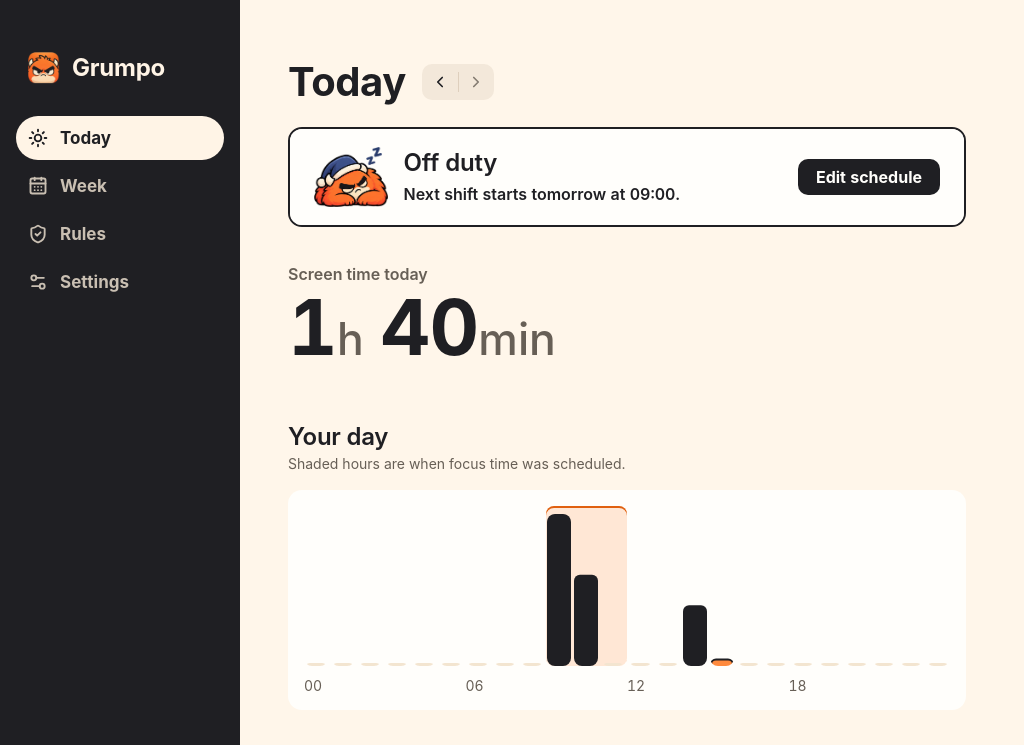
Test: TodayScreen states › words an empty past day without promising tracking
This screenshot has width=1024, height=745.
Step 1. Click the button named "Previous day" → (440, 82), box [422,64,458,100]
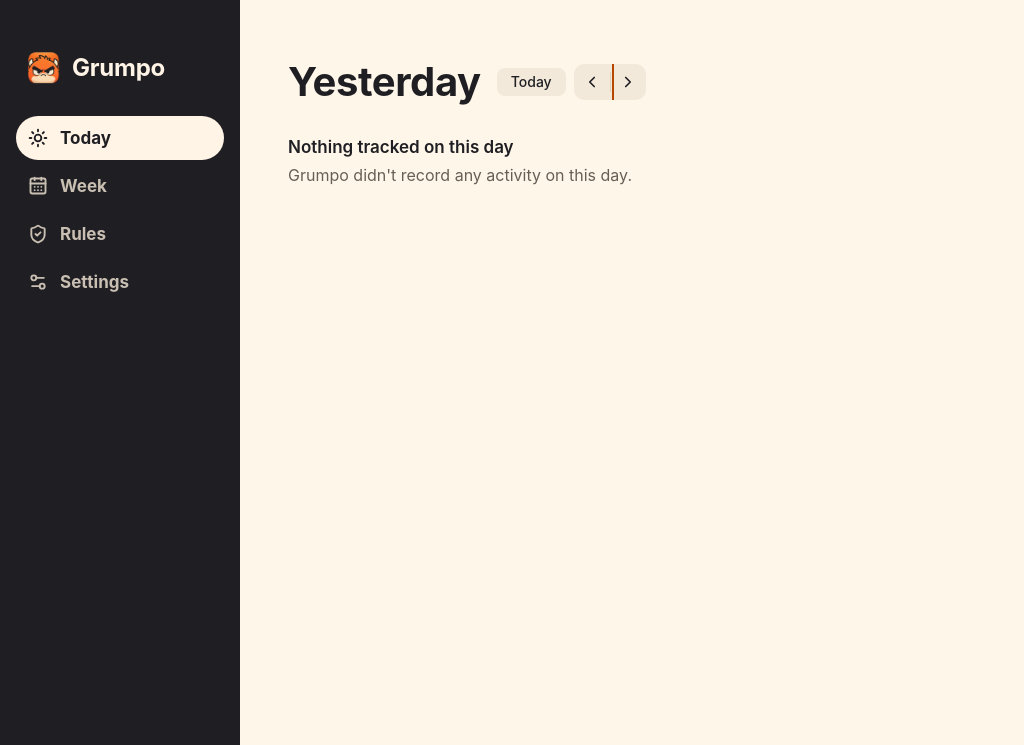
Expected: the heading "Nothing tracked on this day" is shown, [288,135,514,159]
